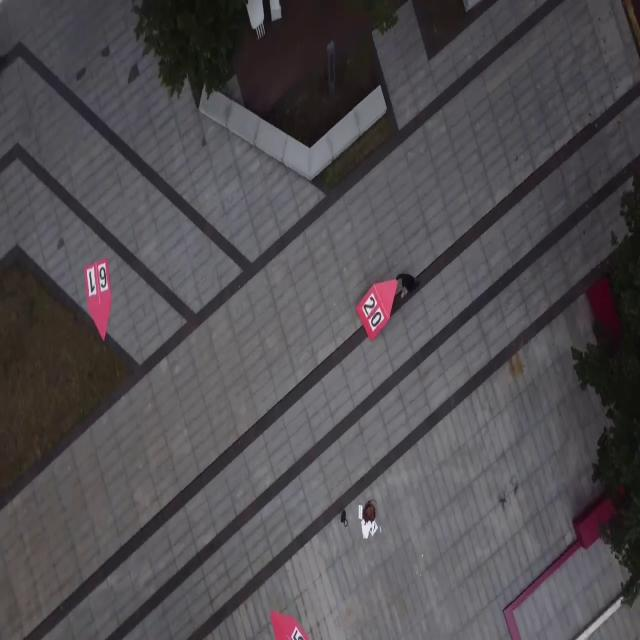-sign-: (356, 278, 398, 342), (84, 257, 112, 342), (270, 610, 312, 640)
